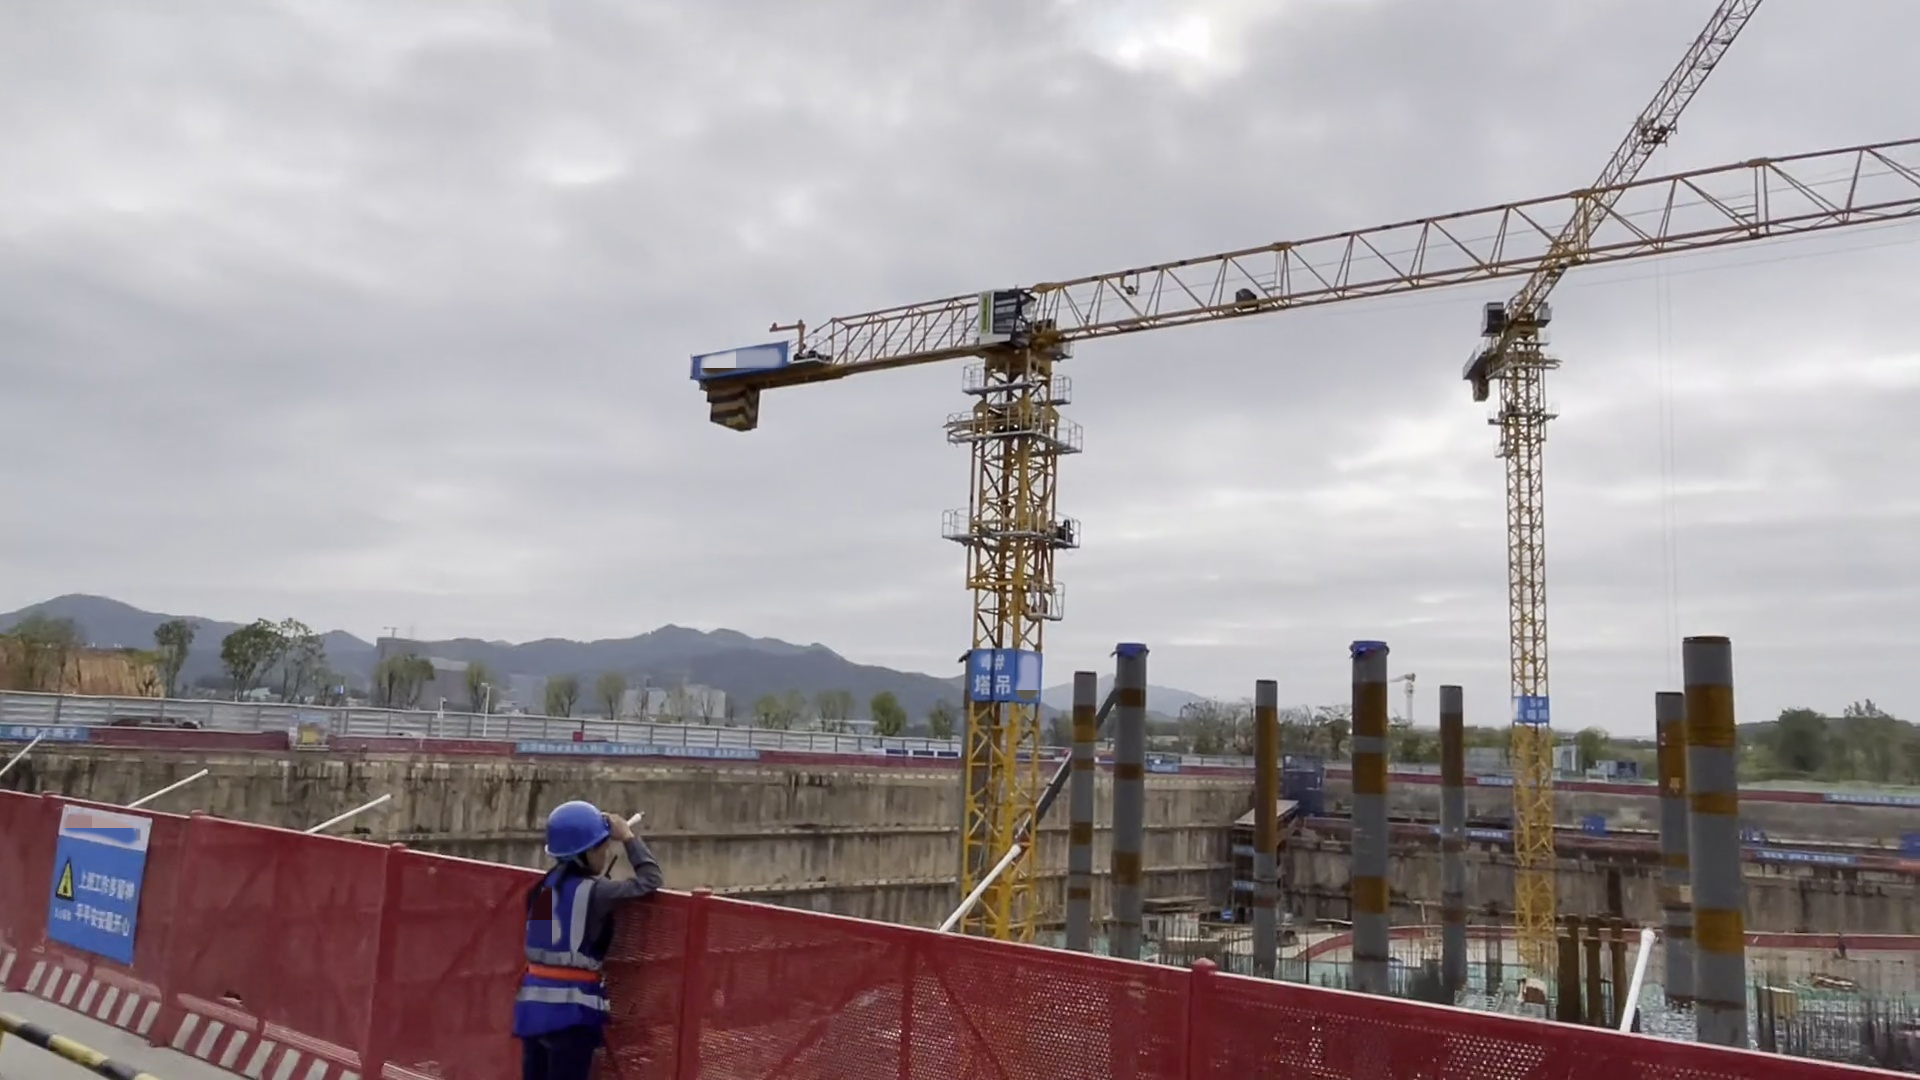fence: (1, 895, 1870, 1080), (389, 743, 939, 768)
helmet: (545, 805, 614, 851)
person: (513, 792, 662, 1077)
slogan: (56, 824, 139, 945), (965, 644, 1015, 703), (1523, 696, 1547, 723)
vest: (523, 861, 617, 1037)
